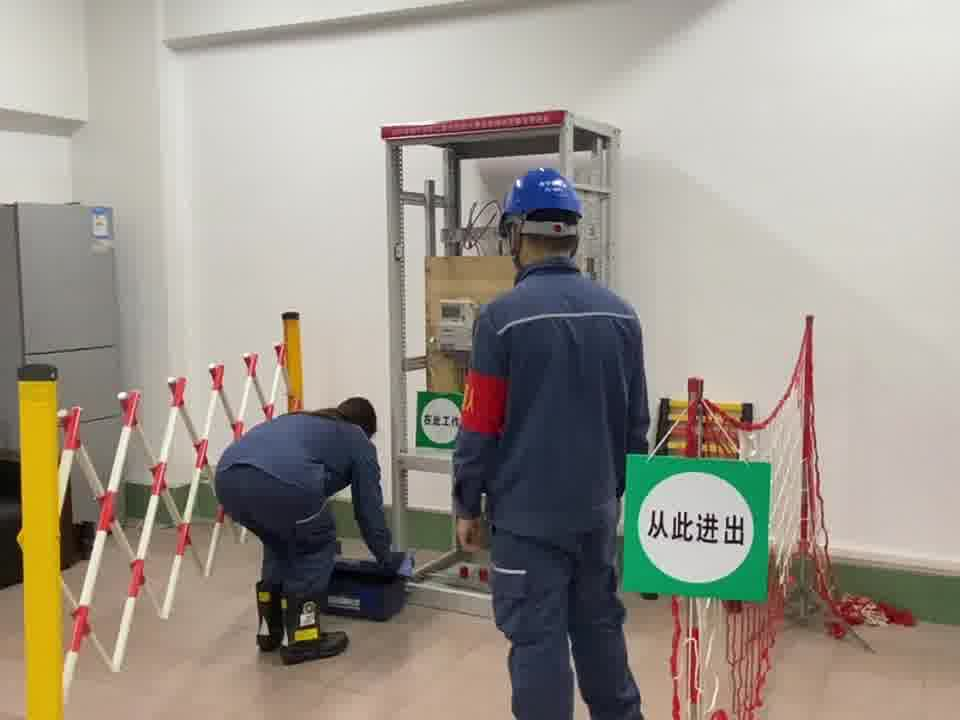badge: (458, 369, 511, 438)
downsuit: (478, 539, 649, 720), (211, 469, 346, 603)
glove: (382, 550, 415, 581)
halt: (498, 166, 588, 266)
hand: (455, 515, 486, 554)
inear: (503, 219, 528, 274)
intosign: (620, 453, 783, 612)
person: (450, 163, 659, 720), (217, 392, 415, 649)
shoe: (275, 588, 352, 663), (251, 583, 287, 654)
unhalt: (331, 394, 380, 439)
upsuit: (449, 264, 656, 532), (216, 414, 387, 503)
worksign: (414, 388, 463, 450)
